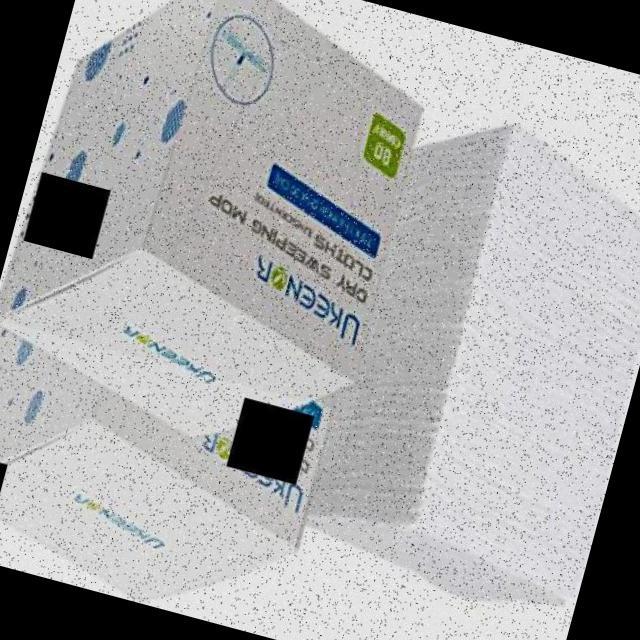box: (0, 0, 455, 474), (289, 48, 640, 638), (0, 317, 331, 638)
